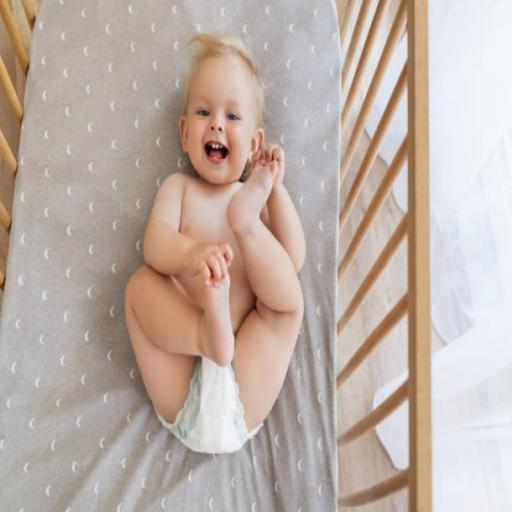baby: (126, 35, 305, 452)
crib: (333, 0, 431, 509)
